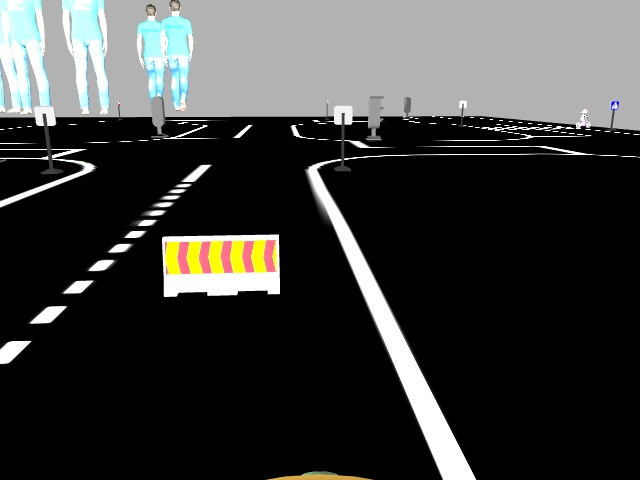ClosedRoadStand: (163, 237, 280, 293)
